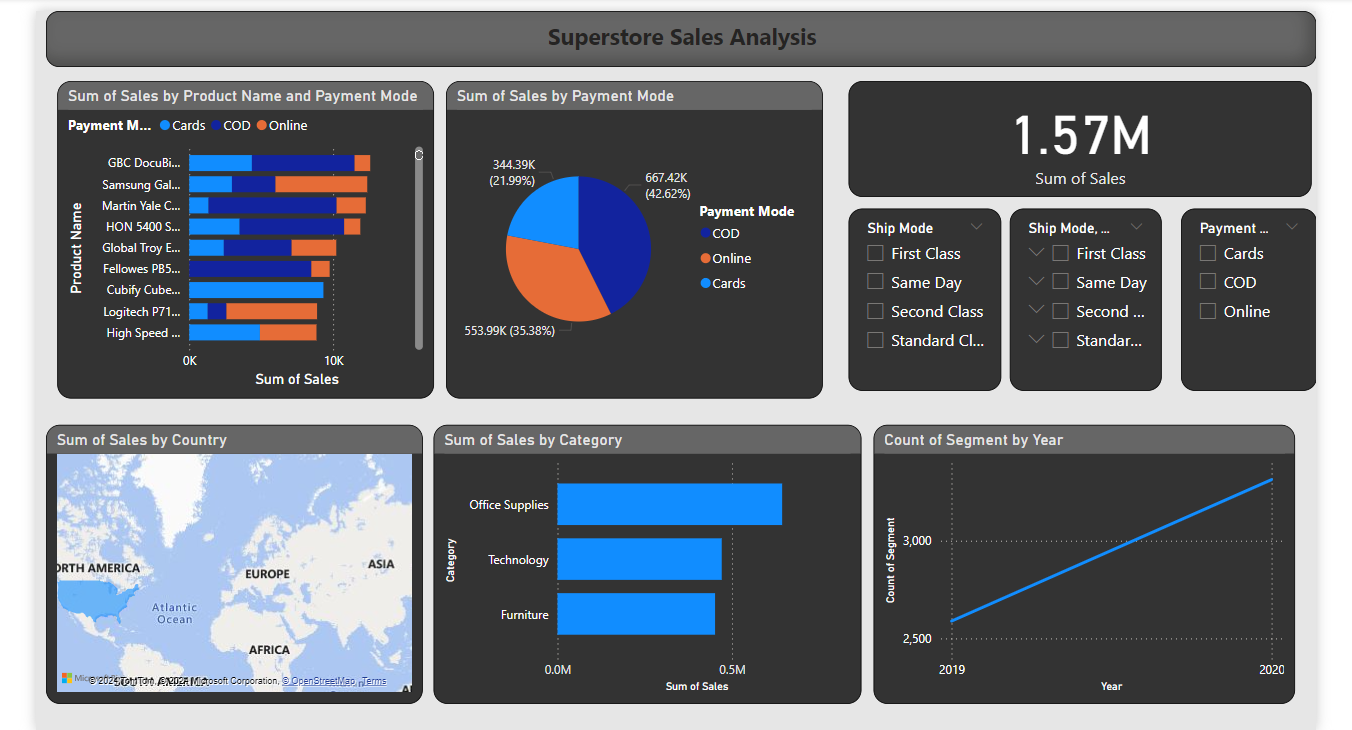

This screenshot's page, from the dashboard's own definition file:
{"tool":"powerbi","page":{"name":"Page 1","canvas":[1280,720],"ordinal":0},"visuals":[{"type":"textbox","title":"Superstore Sales Analysis","box":[9.6,0,1270.7,56.3],"z":0},{"type":"barChart","fields":{"Y":["Sum(Sheet1.Sales)"],"Category":["Sheet1.Product Name"],"Series":["Sheet1.Payment Mode"]},"box":[20.8,69.7,376.6,317.9],"z":1000},{"type":"pieChart","fields":{"Y":["Sum(Sheet1.Sales)"],"Category":["Sheet1.Payment Mode"]},"box":[409.6,69.7,376.6,317.9],"z":2000},{"type":"barChart","fields":{"Y":["Sum(Sheet1.Sales)"],"Category":["Sheet1.Category"]},"box":[397.4,413.3,428,278.8],"z":3000},{"type":"slicer","fields":{"Values":["Sheet1.Ship Mode"]},"box":[812,196.9,152.9,182.2],"z":5000},{"type":"slicer","fields":{"Values":["Sheet1.Payment Mode"]},"box":[1144.6,196.9,135.7,182.2],"z":6000},{"type":"slicer","fields":{"Values":["Sheet1.Ship Mode","Sheet1.Segment"]},"box":[973.4,196.9,151.6,182.2],"z":7000},{"type":"card","fields":{"Values":["Sum(Sheet1.Sales)"]},"box":[812,69.7,463.5,116.2],"z":8000},{"type":"lineChart","fields":{"Category":["Sheet1.Order Date.Variation.Date Hierarchy.Year","Sheet1.Order Date.Variation.Date Hierarchy.Quarter","Sheet1.Order Date.Variation.Date Hierarchy.Month","Sheet1.Order Date.Variation.Date Hierarchy.Day","Sheet1.Ship Date.Variation.Date Hierarchy.Year","Sheet1.Ship Date.Variation.Date Hierarchy.Quarter","Sheet1.Ship Date.Variation.Date Hierarchy.Month","Sheet1.Ship Date.Variation.Date Hierarchy.Day"],"Y":["CountNonNull(Sheet1.Segment)"]},"box":[837.6,413.3,421.9,278.8],"z":9000},{"type":"filledMap","fields":{"Category":["Sheet1.Country"]},"box":[20.5,412.6,364.3,279.9],"z":9001}]}

Visuals, with their boxes in screenshot pixels (x1, y1, x2, y2):
"Superstore Sales Analysis" textbox: Rect(41, 7, 1310, 63)
barChart - Sum(Sheet1.Sales) x Sheet1.Product Name: Rect(52, 77, 428, 394)
pieChart - Sum(Sheet1.Sales) x Sheet1.Payment Mode: Rect(441, 77, 817, 394)
barChart - Sum(Sheet1.Sales) x Sheet1.Category: Rect(428, 420, 856, 698)
slicer - Sheet1.Ship Mode: Rect(842, 204, 995, 385)
slicer - Sheet1.Payment Mode: Rect(1174, 204, 1310, 385)
slicer - Sheet1.Ship Mode x Sheet1.Segment: Rect(1003, 204, 1155, 385)
card - Sum(Sheet1.Sales): Rect(842, 77, 1305, 193)
lineChart - Sheet1.Order Date.Variation.Date Hierarchy.Year x Sheet1.Order Date.Variation.Date Hierarchy.Quarter: Rect(868, 420, 1289, 698)
filledMap - Sheet1.Country: Rect(52, 419, 416, 698)
